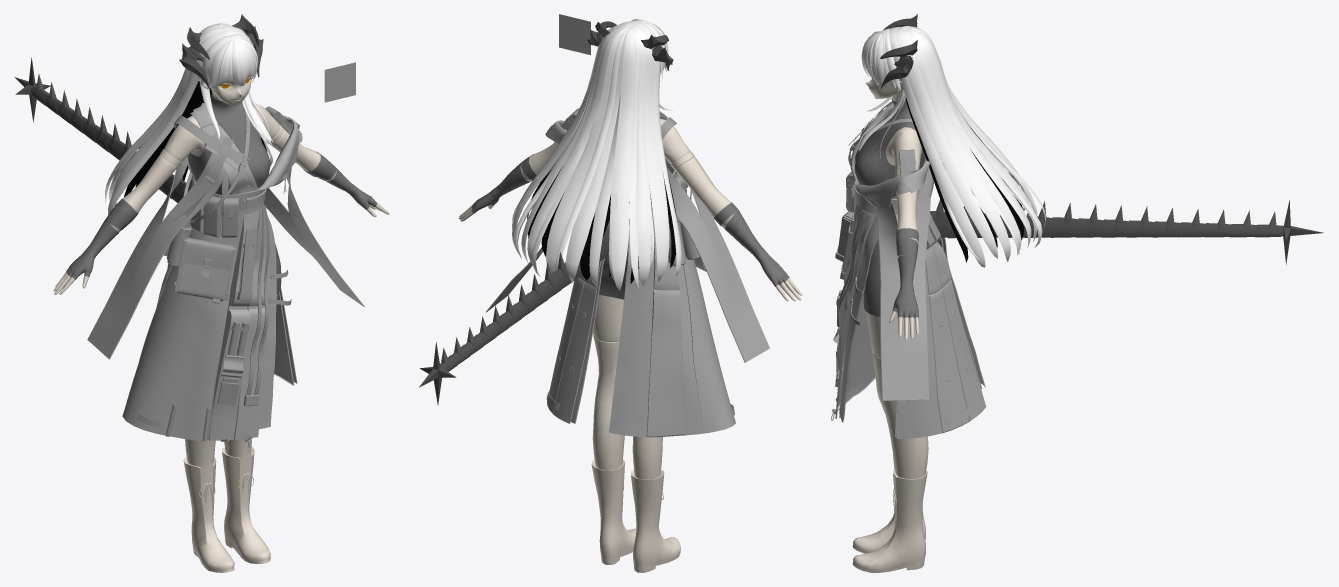
Rendered from StrongholdSaria20240719_forsp_v2.fbx.
The picture shows the model from 3 angles, left to right: view 1: azimuth 30°, elevation 25°; view 2: azimuth 150°, elevation 25°; view 3: azimuth 270°, elevation 25°; orthographic projection. The views are drawn at different scales.
Visible parts, largest first — view 1: cloth, acce, boots, skin, extractedGeo_8, band, inner_top, extractedGeo_2_fornthair, pPlane1, polySurface49, sidehair, horn2 (+2 smaller); view 2: cloth, extractedGeo_12, skin, extractedGeo_8, extractedGeo_10, boots, band, extractedGeo_6, polySurface49, acce, pPlane1, innerskirt2 (+1 smaller); view 3: cloth, extractedGeo_6, extractedGeo_10, skin, boots, acce, inner_top, band, extractedGeo_2_fornthair, extractedGeo_12, polySurface49, innerskirt2 (+1 smaller).
Part boxes in pixels (x1,y1,x2,y2): cloth: (87,103,364,440); acce: (164,102,292,448); boots: (183,446,270,572); skin: (53,92,389,467); extractedGeo_8: (105,26,229,215); band: (66,152,376,279); inner_top: (187,91,270,194); extractedGeo_2_fornthair: (199,34,258,92); pPlane1: (324,62,355,102); polySurface49: (124,81,266,196); sidehair: (199,83,273,145); horn2: (179,26,263,88); cloth: (485,111,769,437); extractedGeo_12: (555,27,634,290); skin: (458,118,802,479); extractedGeo_8: (629,22,681,288); extractedGeo_10: (514,27,629,276); boots: (591,459,680,572); band: (471,154,789,286); extractedGeo_6: (512,21,637,257); polySurface49: (527,166,676,283); acce: (561,108,706,271); pPlane1: (559,14,590,55); innerskirt2: (599,241,628,299); cloth: (835,102,986,438); extractedGeo_6: (889,29,1010,267); extractedGeo_10: (907,29,1042,255); skin: (866,92,928,479); boots: (852,455,927,572); acce: (831,93,940,420); inner_top: (854,98,924,185); band: (892,228,918,319); extractedGeo_2_fornthair: (861,28,900,90); extractedGeo_12: (907,27,1045,226); polySurface49: (905,97,1023,262); innerskirt2: (863,239,880,316).
Size of the model in its own units: 107 by 160 by 135.
